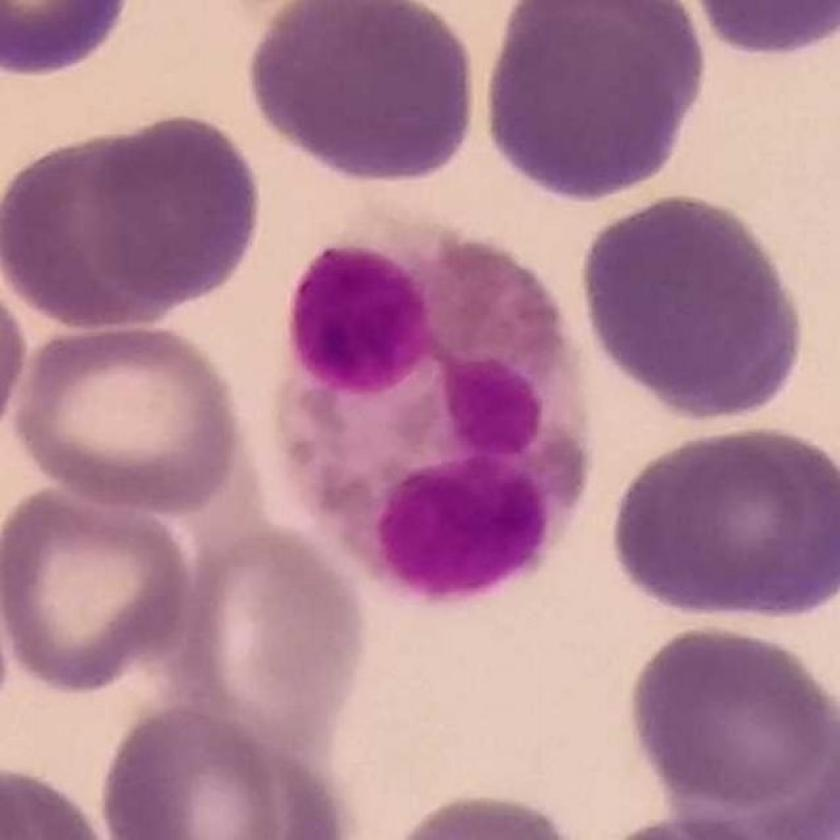eosinophil: (274, 211, 598, 609)
